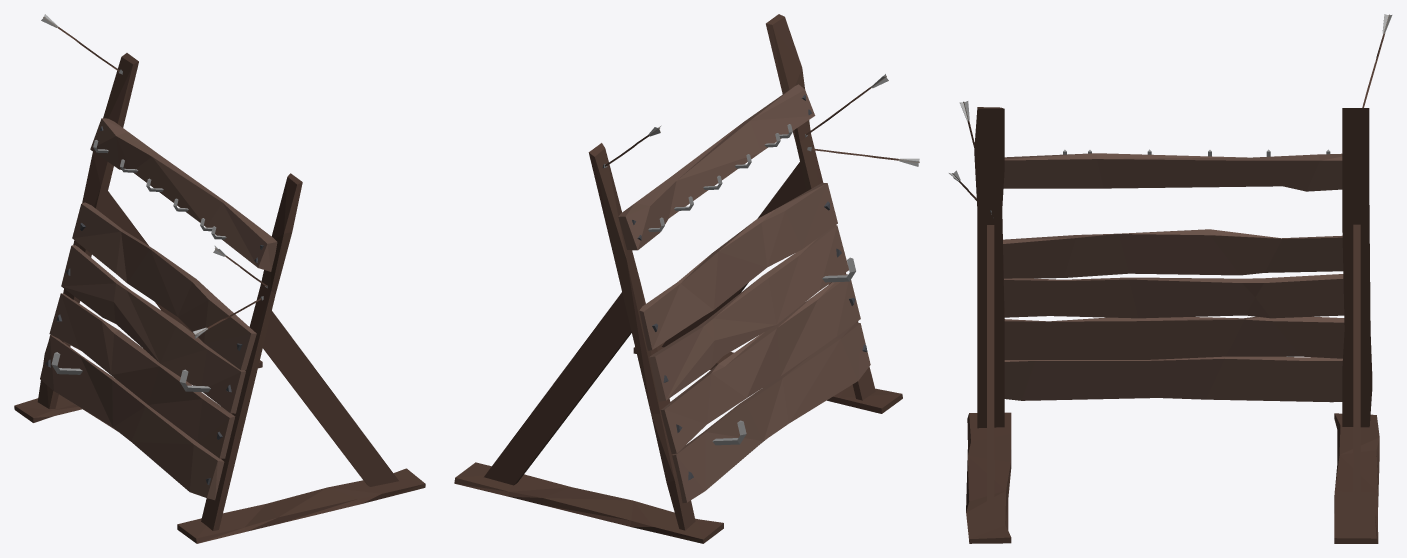
The model's file is ratelier.fbx.
3 renders of one model, left to right at view 1: azimuth 30°, elevation 25°; view 2: azimuth 150°, elevation 25°; view 3: azimuth 270°, elevation 25°, orthographic. The views are drawn at different scales.
Visible parts, largest first — view 1: ratelier2; view 2: ratelier2; view 3: ratelier2.
Part boxes in pixels (x1,y1,x2,y2): ratelier2: (14,14,425,543); ratelier2: (454,14,919,543); ratelier2: (949,14,1392,543).
Bounding box in the file's own units: 58.22 × 88.67 × 83.81.
